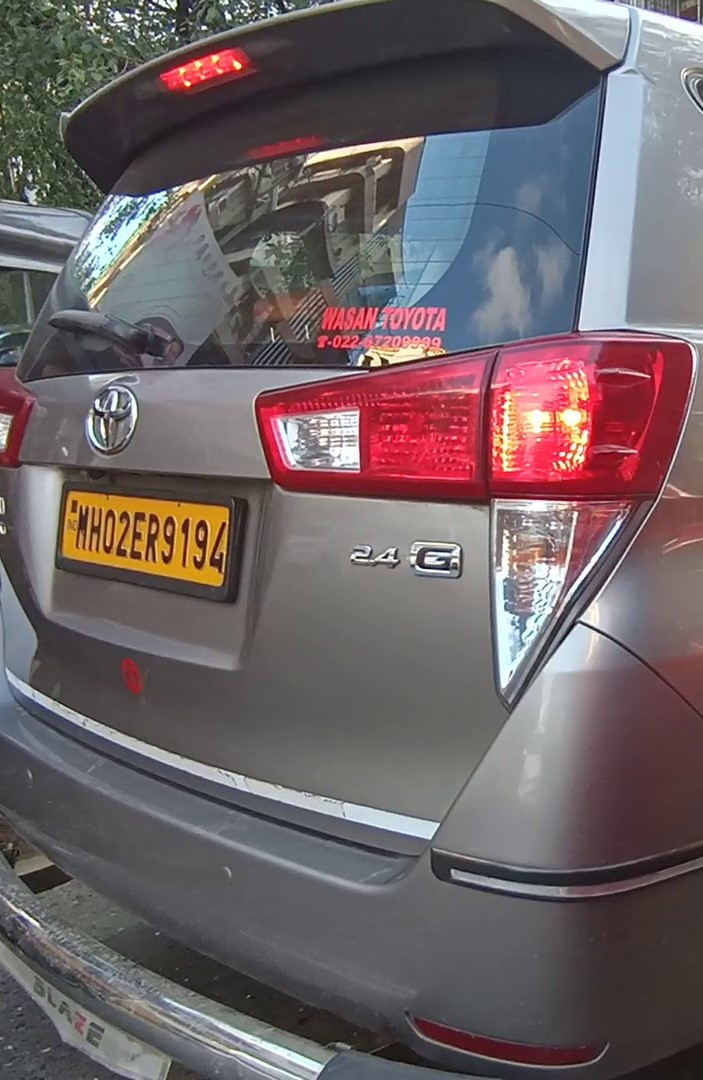MH02ER9194: (59, 487, 230, 587)
